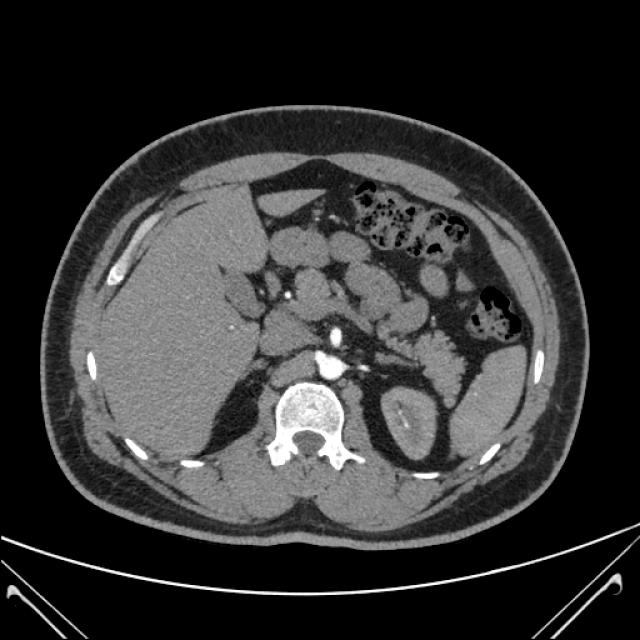Kidney: (56, 103, 607, 569)
